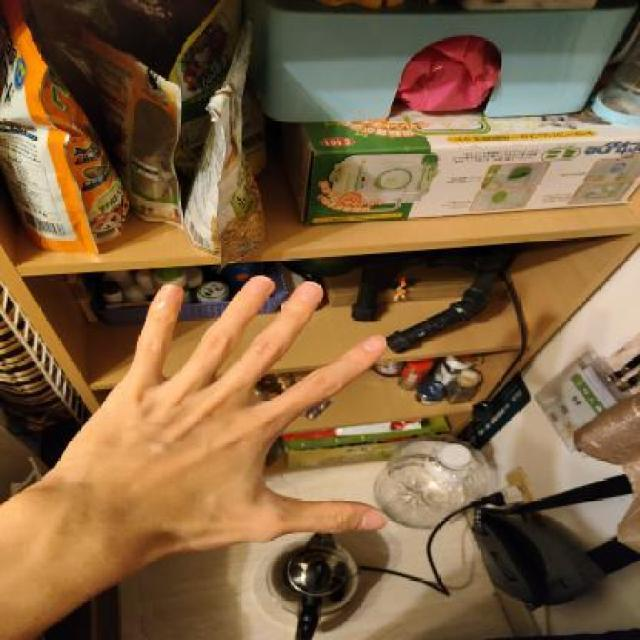bare_hand: (47, 270, 406, 578)
